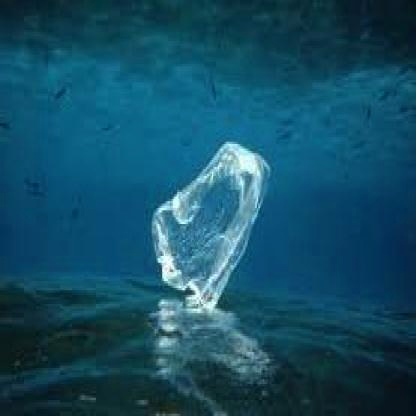pbag: (150, 140, 274, 308)
